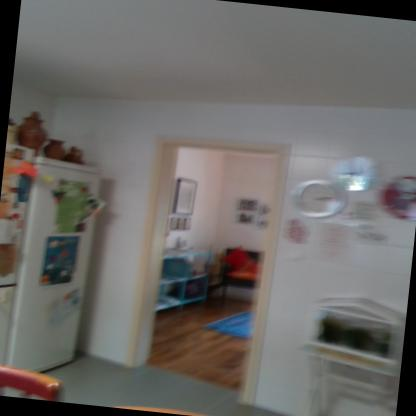open: (122, 121, 298, 390)
